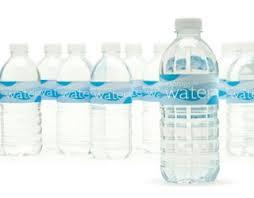Plastic bottle: (151, 14, 227, 188), (40, 34, 143, 161), (3, 43, 43, 160)
